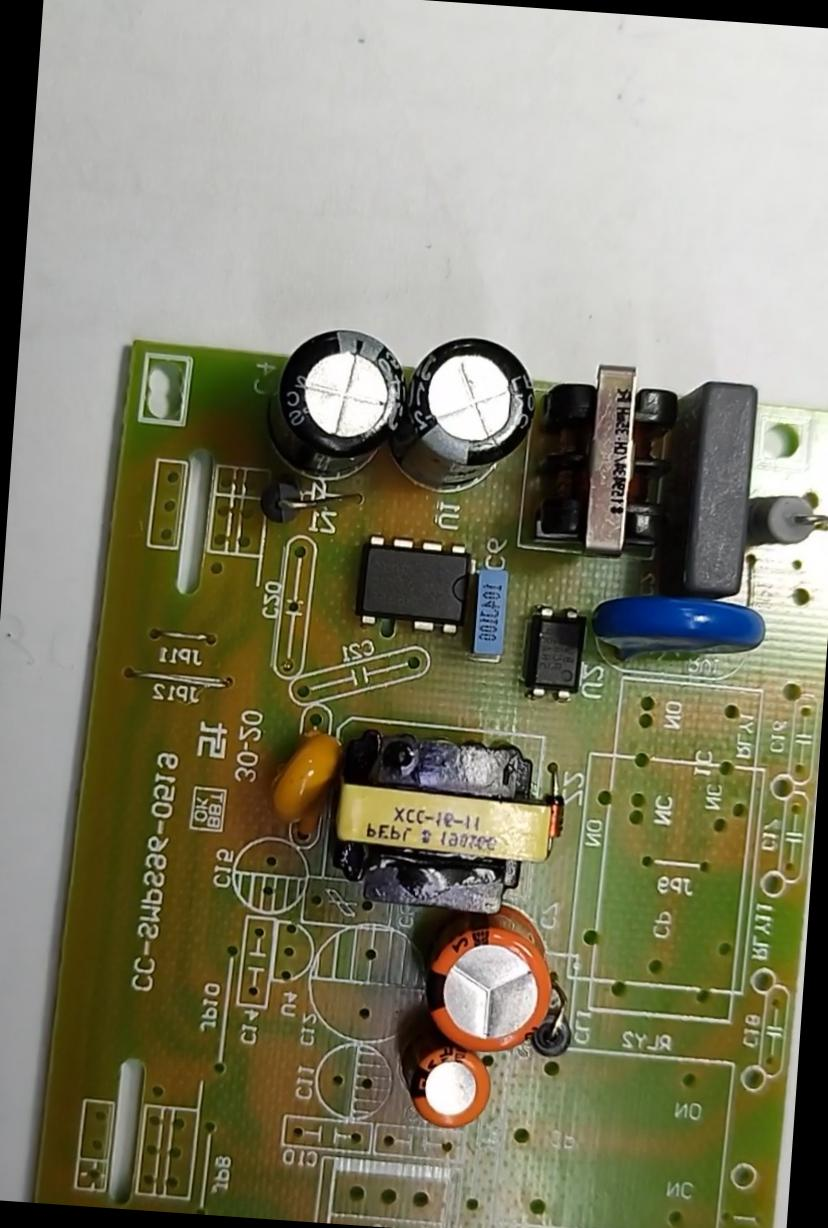Cap1: (406, 891, 571, 1066)
Cap2: (395, 1041, 499, 1134)
Cap3: (378, 324, 540, 504)
Cap4: (243, 320, 416, 501)
MOSFET: (342, 527, 489, 643)
Mov: (574, 582, 782, 686)
Resistor: (726, 481, 827, 557)
Transformer: (306, 718, 578, 931), (515, 354, 684, 572)
